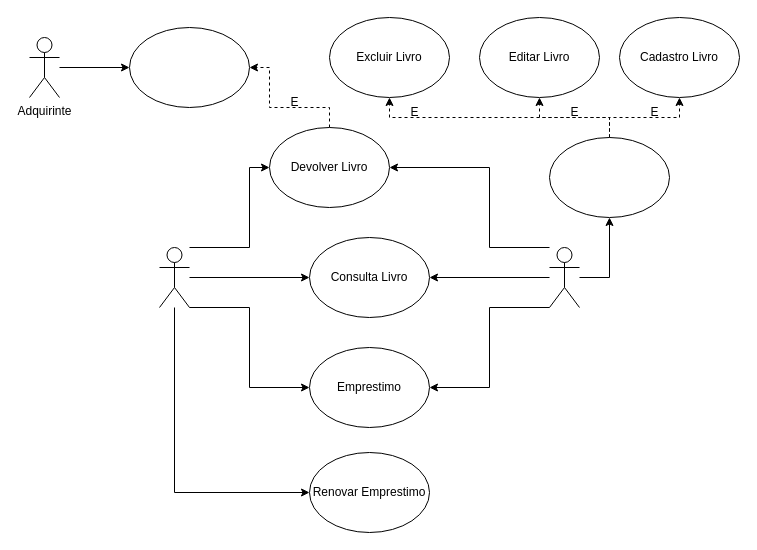
Image size: 757x550. Some labels were removed from this diagram. Each missing label, with the centre of its shape:
"Aluno" belongs at pixel 174 277.
"Bibliotecário" belongs at pixel 564 277.
"Gerenciar Livros" belongs at pixel 609 177.
"Pagar Multa" belongs at pixel 189 67.
